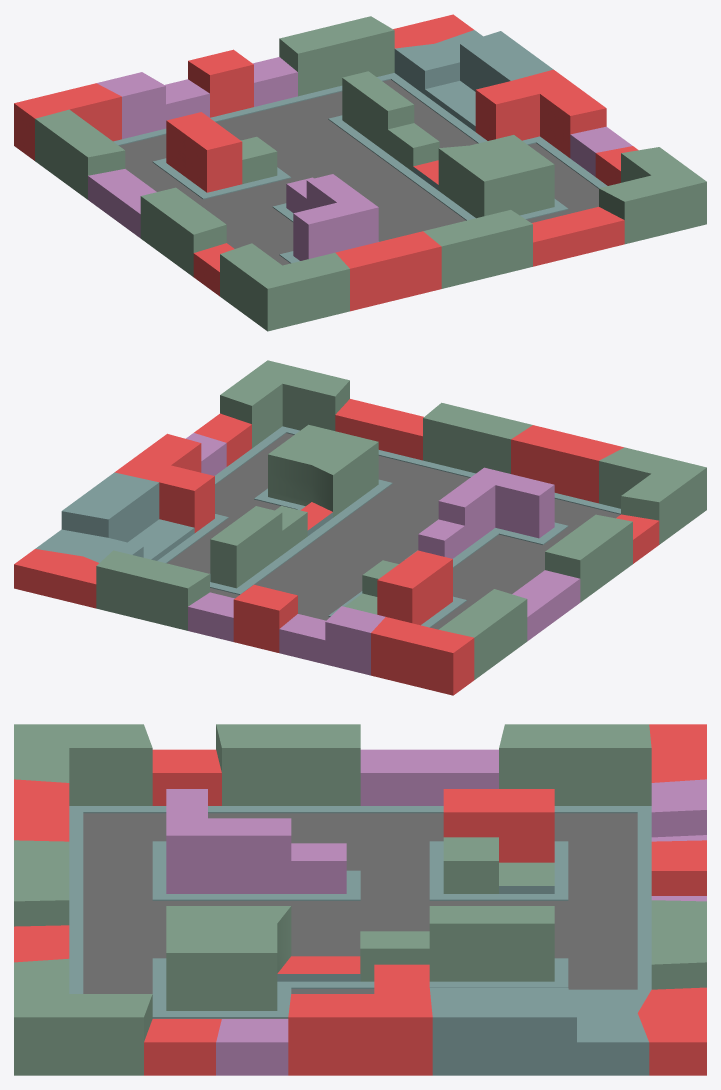
Rendered from Zone.fbx.
3 renders of one model, top to bottom at view 1: azimuth 30°, elevation 25°; view 2: azimuth 150°, elevation 25°; view 3: azimuth 270°, elevation 25°, orthographic. The views are drawn at different scales.
Parts seen in each view (by area): view 1: zone; view 2: zone; view 3: zone.
Part boxes in pixels (x1=…): zone: x1=14, y1=14, x2=706, y2=331; zone: x1=14, y1=360, x2=706, y2=695; zone: x1=14, y1=724, x2=706, y2=1075.
Bounding box in the file's own units: 5000 × 473 × 5000.
